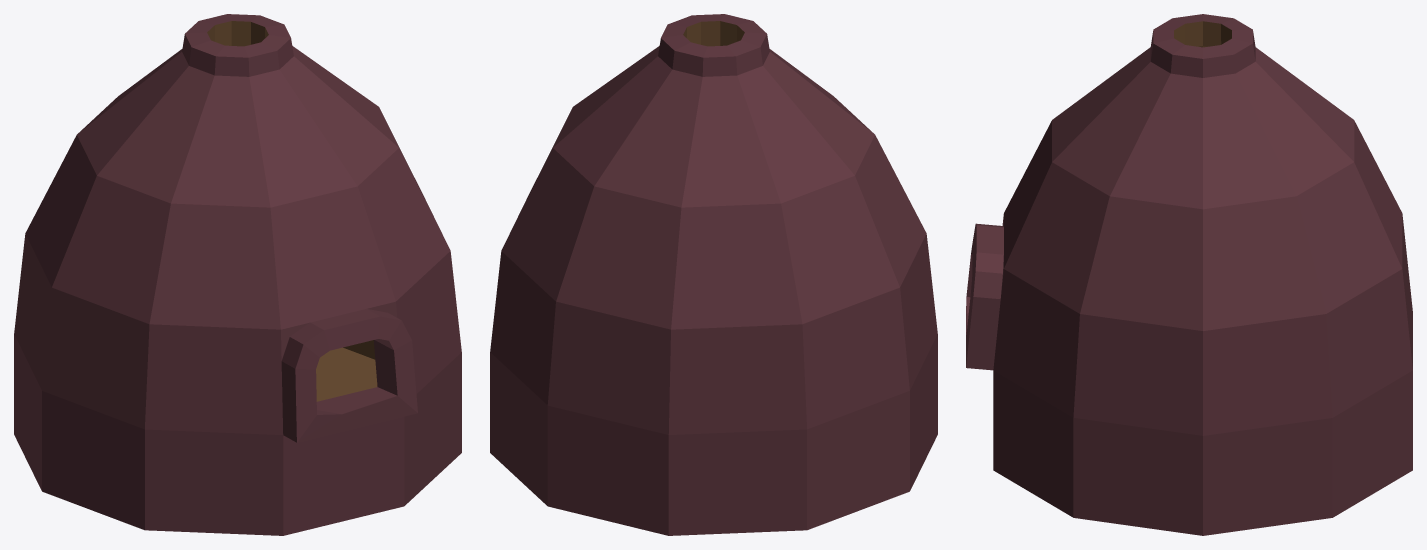
File: egypt-oven.fbx
The picture shows the model from 3 angles, left to right: view 1: azimuth 30°, elevation 25°; view 2: azimuth 150°, elevation 25°; view 3: azimuth 270°, elevation 25°; orthographic projection.
Parts seen in each view (by area): view 1: egypt-oven; view 2: egypt-oven; view 3: egypt-oven.
Part boxes in pixels (x1=…): egypt-oven: x1=14, y1=14, x2=461, y2=535; egypt-oven: x1=490, y1=14, x2=937, y2=535; egypt-oven: x1=966, y1=14, x2=1412, y2=535.
Bounding box in the file's own units: 2 × 2 × 1.99.
